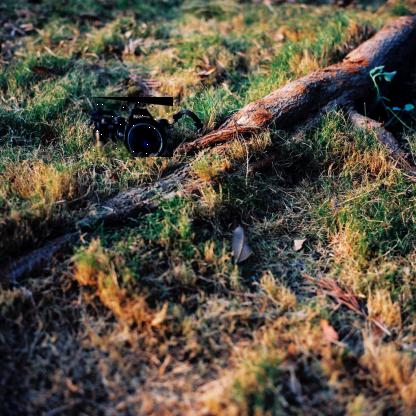Camera: (91, 98, 175, 159)
